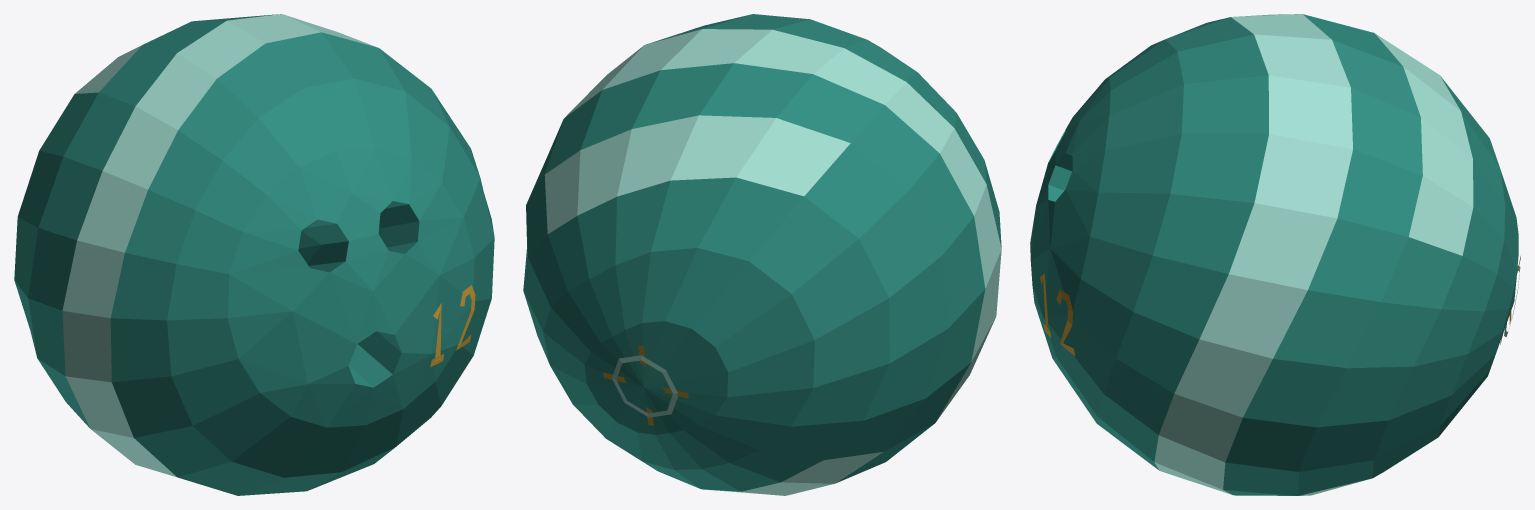
Rendered from cozy_bowling_ball_12lb.glb.
3 renders of one model, left to right at view 1: azimuth 30°, elevation 25°; view 2: azimuth 150°, elevation 25°; view 3: azimuth 270°, elevation 25°, orthographic.
Parts seen in each view (by area): view 1: Ball_12lb_Mesh; view 2: Ball_12lb_Mesh; view 3: Ball_12lb_Mesh.
Boxes of the visible parts, x1=… form: Ball_12lb_Mesh: x1=14, y1=14, x2=494, y2=495; Ball_12lb_Mesh: x1=523, y1=14, x2=1001, y2=495; Ball_12lb_Mesh: x1=1030, y1=14, x2=1520, y2=495.
Bounding box in the file's own units: 0.2161 × 0.2161 × 0.2173.
